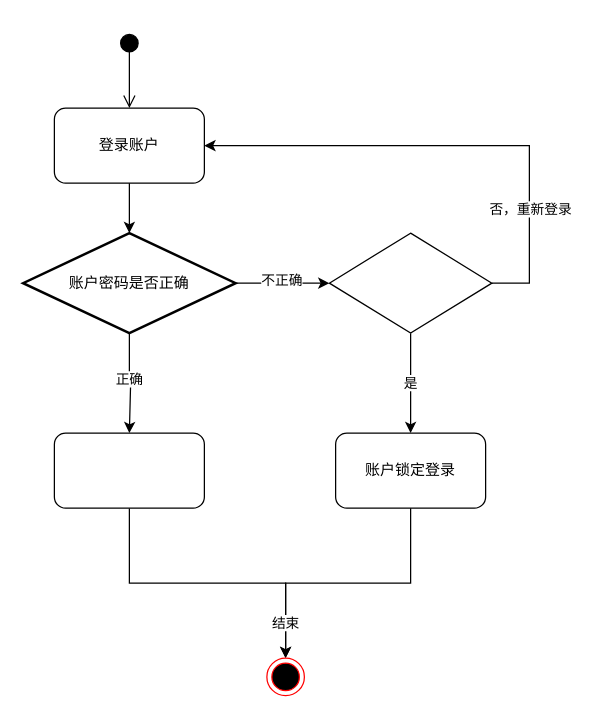
Some shapes in this 593 by 718 pixel diagram are drawn without their labels. The shapes that lost their labels are listed below. From the top down, each one's centre as x and y in pixels, then its label:
At point (410, 282): "是否出现5次错误".
At point (128, 470): "登录完毕".
